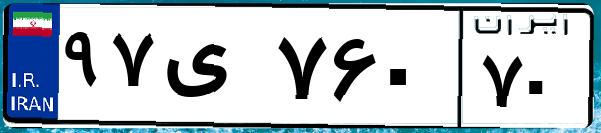0: (385, 28, 445, 110), (525, 38, 570, 115)
6: (330, 28, 385, 110)
7: (270, 28, 330, 110), (475, 38, 525, 113), (110, 28, 158, 98)
9: (57, 26, 110, 100)
ی: (158, 20, 270, 120)
